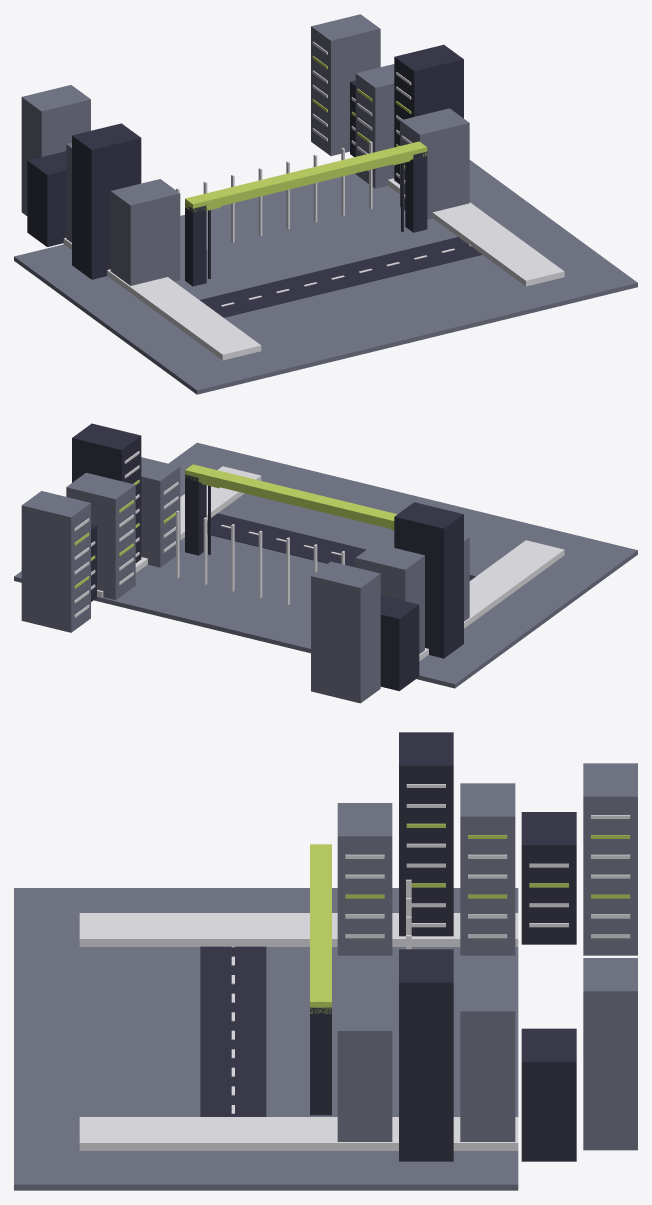
Rendered from district_1.glb.
3 renders of one model, top to bottom at view 1: azimuth 30°, elevation 25°; view 2: azimuth 150°, elevation 25°; view 3: azimuth 270°, elevation 25°, orthographic. The views are drawn at different scales.
Parts seen in each view (by area): view 1: ArenaFloor, Building.001, Building, Building.009, FightLane, Building.005, Sidewalk, Building.006, Sidewalk.001, Building.004, GateHeader, Building.007 (+4 smaller); view 2: ArenaFloor, Building.004, Building.009, Building.001, Building.007, Building.006, Building.005, Sidewalk, GateHeader, Building.003, FightLane, Building.002 (+4 smaller); view 3: ArenaFloor, Building.006, FightLane, Building.009, Sidewalk.001, Building.001, Building.004, Sidewalk, Building.007, Building.002, Building.005, Building (+4 smaller).
Part boxes in pixels (x1,y1,x2,y2): ArenaFloor: [14, 160, 637, 394]; Building.001: [72, 123, 141, 279]; Building: [110, 179, 180, 285]; Building.009: [311, 14, 380, 155]; FightLane: [200, 237, 482, 317]; Building.005: [400, 108, 469, 219]; Sidewalk: [63, 238, 261, 360]; Building.006: [394, 44, 463, 184]; Sidewalk.001: [388, 178, 564, 286]; Building.004: [21, 85, 90, 215]; GateHeader: [185, 141, 427, 212]; Building.007: [355, 64, 394, 188]; ArenaFloor: [14, 442, 637, 688]; Building.004: [311, 561, 380, 703]; Building.009: [21, 491, 90, 632]; Building.001: [394, 502, 463, 658]; Building.007: [66, 472, 135, 600]; Building.006: [72, 423, 141, 562]; Building.005: [141, 457, 180, 567]; Sidewalk: [419, 540, 564, 661]; GateHeader: [185, 464, 397, 529]; Building.003: [380, 595, 419, 691]; FightLane: [207, 513, 475, 580]; Building.002: [355, 543, 424, 653]; ArenaFloor: [14, 888, 518, 1190]; Building.006: [399, 949, 453, 1161]; FightLane: [200, 946, 266, 1116]; Building.009: [583, 958, 637, 1150]; Sidewalk.001: [79, 1117, 518, 1150]; Building.001: [399, 732, 453, 936]; Building.004: [583, 763, 637, 955]; Sidewalk: [79, 913, 518, 946]; Building.007: [460, 978, 515, 1141]; Building.002: [460, 783, 515, 955]; Building.005: [337, 997, 392, 1141]; Building: [337, 803, 392, 955].
Size of the model in its own units: 32 by 9.3 by 28.45.
